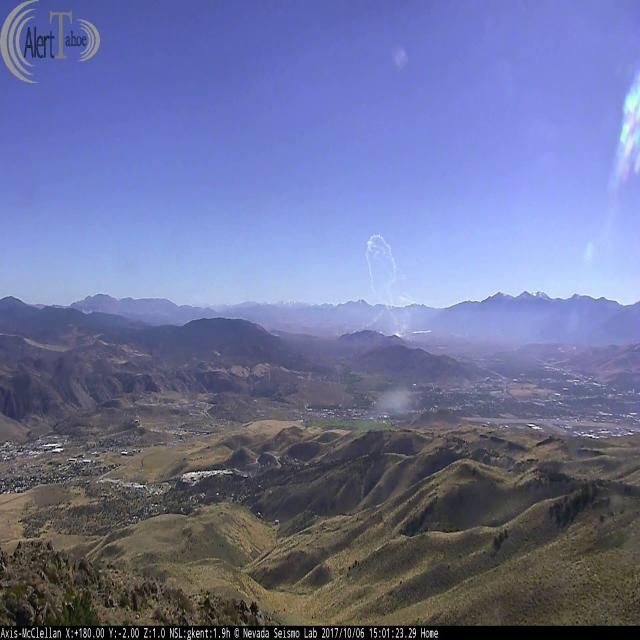smoke: (361, 233, 414, 343)
